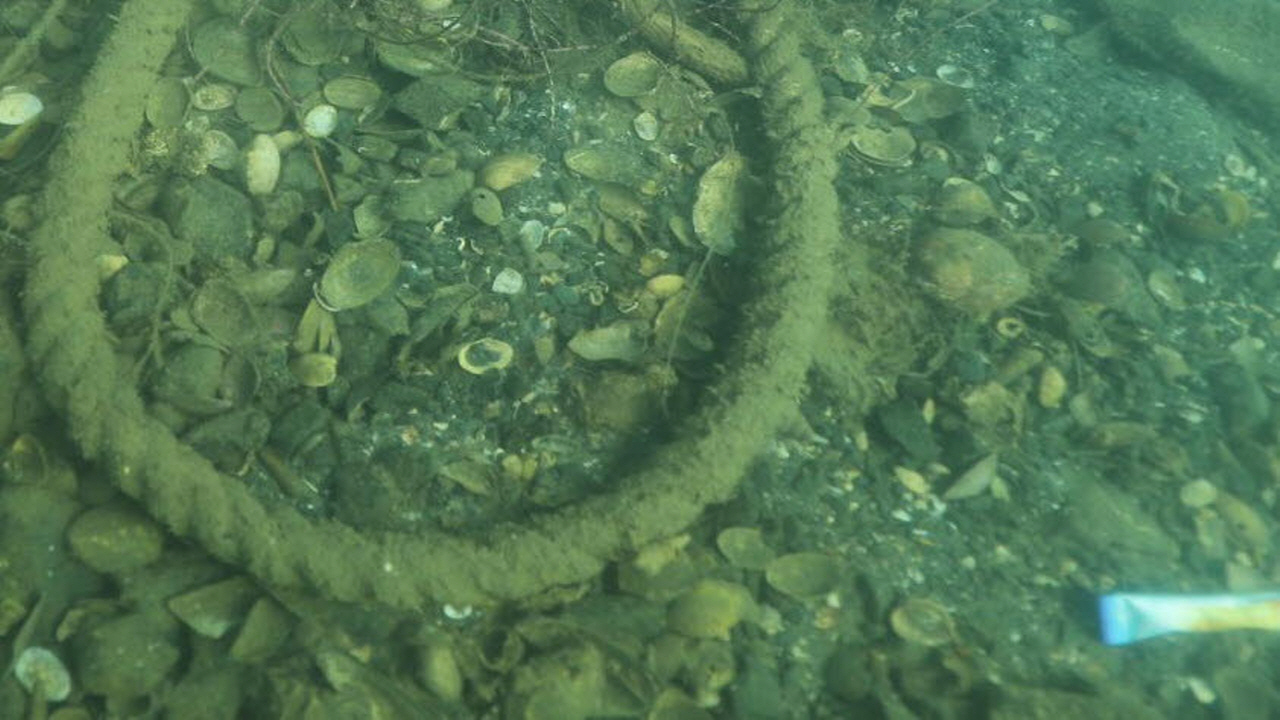rope: (22, 0, 840, 612)
